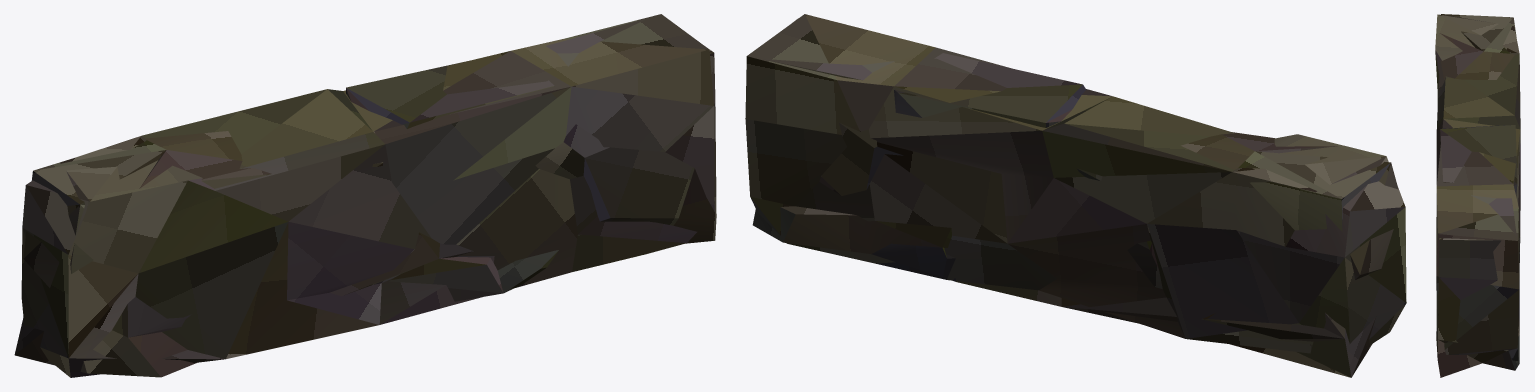
Rendered from stone-wall.collision.glb.
3 views of the same model, side by side, from view 1: azimuth 30°, elevation 25°; view 2: azimuth 150°, elevation 25°; view 3: azimuth 270°, elevation 25° (orthographic). The views are drawn at different scales.
Parts seen in each view (by area): view 1: output_unwrapped; view 2: output_unwrapped; view 3: output_unwrapped.
Part boxes in pixels (<box>): output_unwrapped: <box>14,14,716,377</box>; output_unwrapped: <box>745,14,1406,377</box>; output_unwrapped: <box>1435,14,1520,377</box>.
Bounding box in the file's own units: 1.89 × 0.5519 × 0.2969.
1 material, 1 textured.
